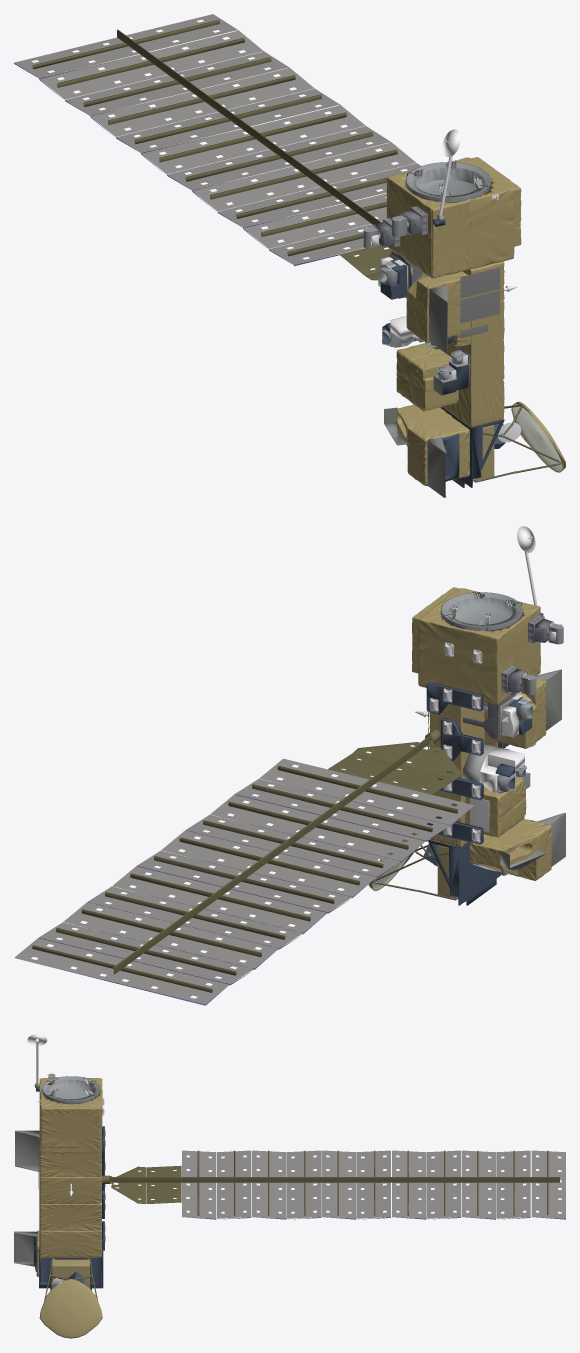
The model's file is aqua.glb.
3 renders of one model, top to bottom at view 1: azimuth 30°, elevation 25°; view 2: azimuth 150°, elevation 25°; view 3: azimuth 270°, elevation 25°, orthographic. The views are drawn at different scales.
Parts seen in each view (by area): view 1: Aqua_Reduced_v0014 [Aqua_Layered_02 [(unnamed)]]; view 2: Aqua_Reduced_v0014 [Aqua_Layered_02 [(unnamed)]]; view 3: Aqua_Reduced_v0014 [Aqua_Layered_02 [(unnamed)]].
Part boxes in pixels (x1,y1,x2,y2): Aqua_Reduced_v0014 [Aqua_Layered_02 [(unnamed)]]: [14, 14, 565, 497]; Aqua_Reduced_v0014 [Aqua_Layered_02 [(unnamed)]]: [14, 526, 565, 1005]; Aqua_Reduced_v0014 [Aqua_Layered_02 [(unnamed)]]: [14, 1034, 565, 1338].
Size of the model in its own units: 124 by 230 by 434.
2 materials, 2 textured.
